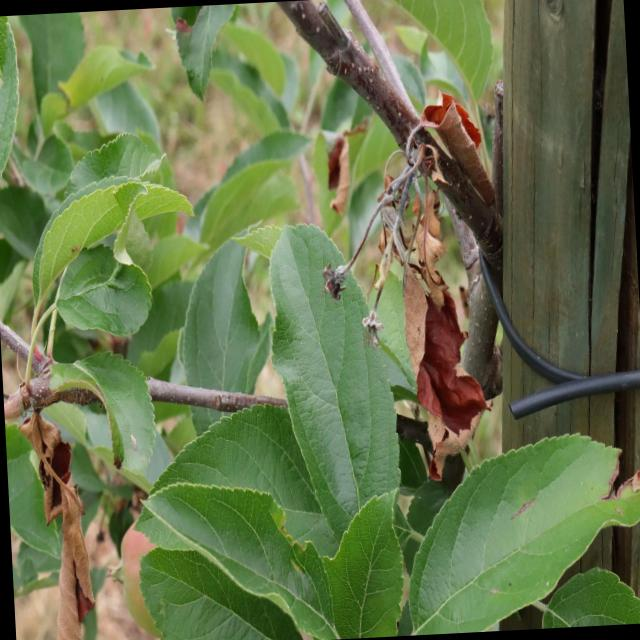-FireBlight-: (373, 97, 507, 480), (15, 410, 108, 640), (316, 139, 355, 215)
